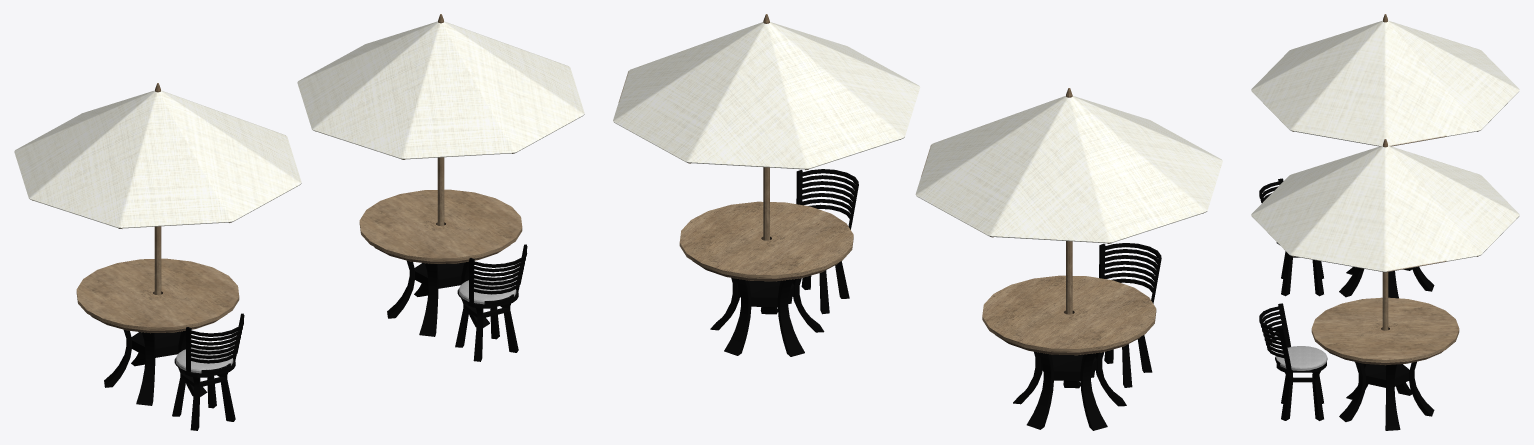
The model's file is chair2.glb.
3 views of the same model, side by side, from view 1: azimuth 30°, elevation 25°; view 2: azimuth 150°, elevation 25°; view 3: azimuth 270°, elevation 25° (orthographic). The views are drawn at different scales.
Visible parts, largest first — view 1: pCone2_lambert1_0.001, pCone2, pCylinder7, pCylinder7_lambert3_0.001, pCylinder9_lambert4_0.001, pCylinder9; view 2: pCone2, pCone2_lambert1_0.001, pCylinder7_lambert3_0.001, pCylinder7, pCylinder9_lambert4_0.001, pCylinder9; view 3: pCone2_lambert1_0.001, pCone2, pCylinder7_lambert3_0.001, pCylinder9_lambert4_0.001, pCylinder9, pCylinder7.
Part boxes in pixels (x1,y1,x2,y2): pCone2_lambert1_0.001: (297,14,584,225); pCone2: (14,83,301,294); pCylinder7: (76,258,239,405); pCylinder7_lambert3_0.001: (359,189,522,336); pCylinder9_lambert4_0.001: (455,244,527,361); pCylinder9: (172,313,244,430); pCone2: (915,88,1222,314); pCone2_lambert1_0.001: (613,14,920,240); pCylinder7_lambert3_0.001: (679,201,853,356); pCylinder7: (982,275,1156,430); pCylinder9_lambert4_0.001: (788,169,858,314); pCylinder9: (1091,243,1161,387); pCone2_lambert1_0.001: (1251,139,1519,330); pCone2: (1251,14,1519,146); pCylinder7_lambert3_0.001: (1311,297,1459,430); pCylinder9_lambert4_0.001: (1259,303,1327,420); pCylinder9: (1259,178,1323,296); pCylinder7: (1339,266,1434,298).
Size of the model in its own units: 7.93 by 4.22 by 3.77.
Materials: 6 (6 with a texture image).
